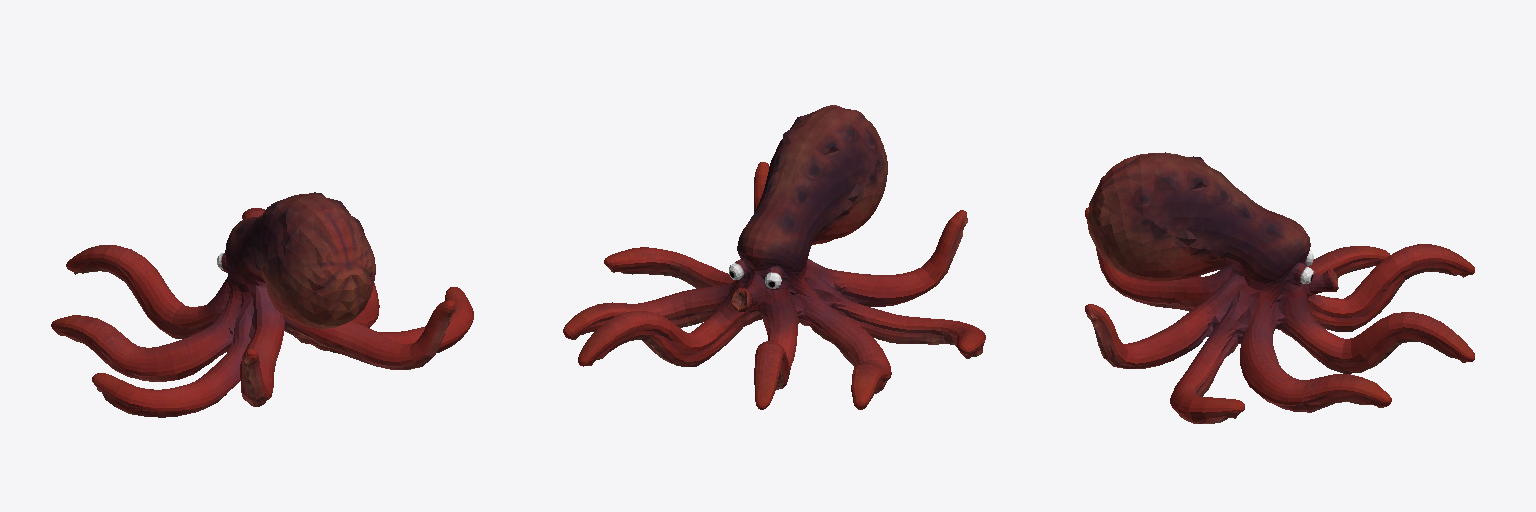
The picture shows the model from 3 angles: view 1: azimuth 30°, elevation 25°; view 2: azimuth 150°, elevation 25°; view 3: azimuth 270°, elevation 25°; orthographic projection.
Visible parts, largest first — view 1: Octopus1; view 2: Octopus1; view 3: Octopus1.
Part boxes in pixels (x1,y1,x2,y2): Octopus1: (51,192,473,417); Octopus1: (563,105,985,409); Octopus1: (1085,152,1474,423).
Size of the model in its own units: 955 by 495 by 877.
1 materials, 1 textured.